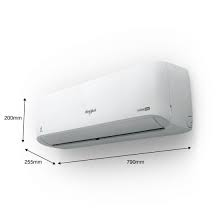ac: (31, 58, 201, 153)
